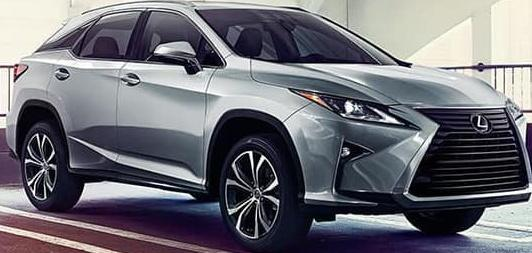SUV: (8, 3, 532, 251)
